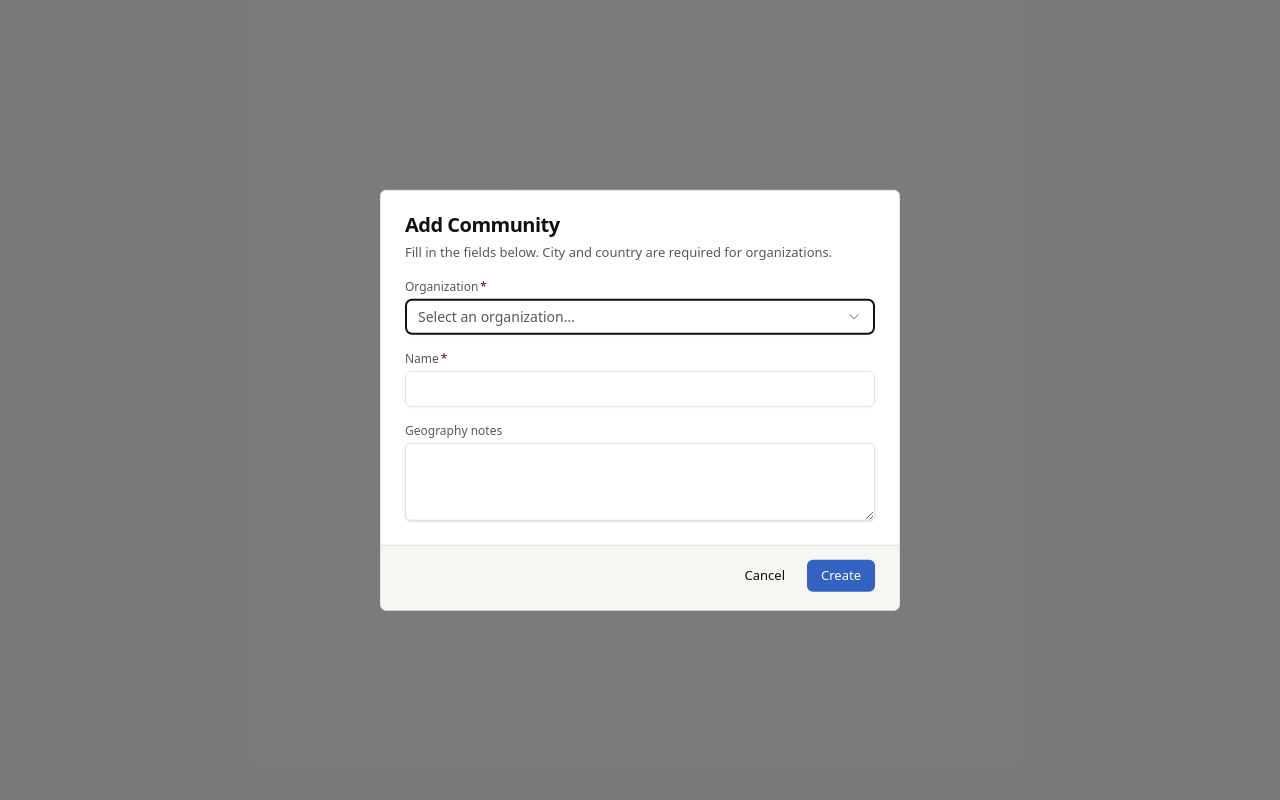
it: EntityForm › community: picker mode (availableOrgs) › shows a validation error when submitted without selecting an org
Type "Test Community" into the field labelled "Name*".
click(640, 388); type("Test Community")  # box [405,370,875,406]
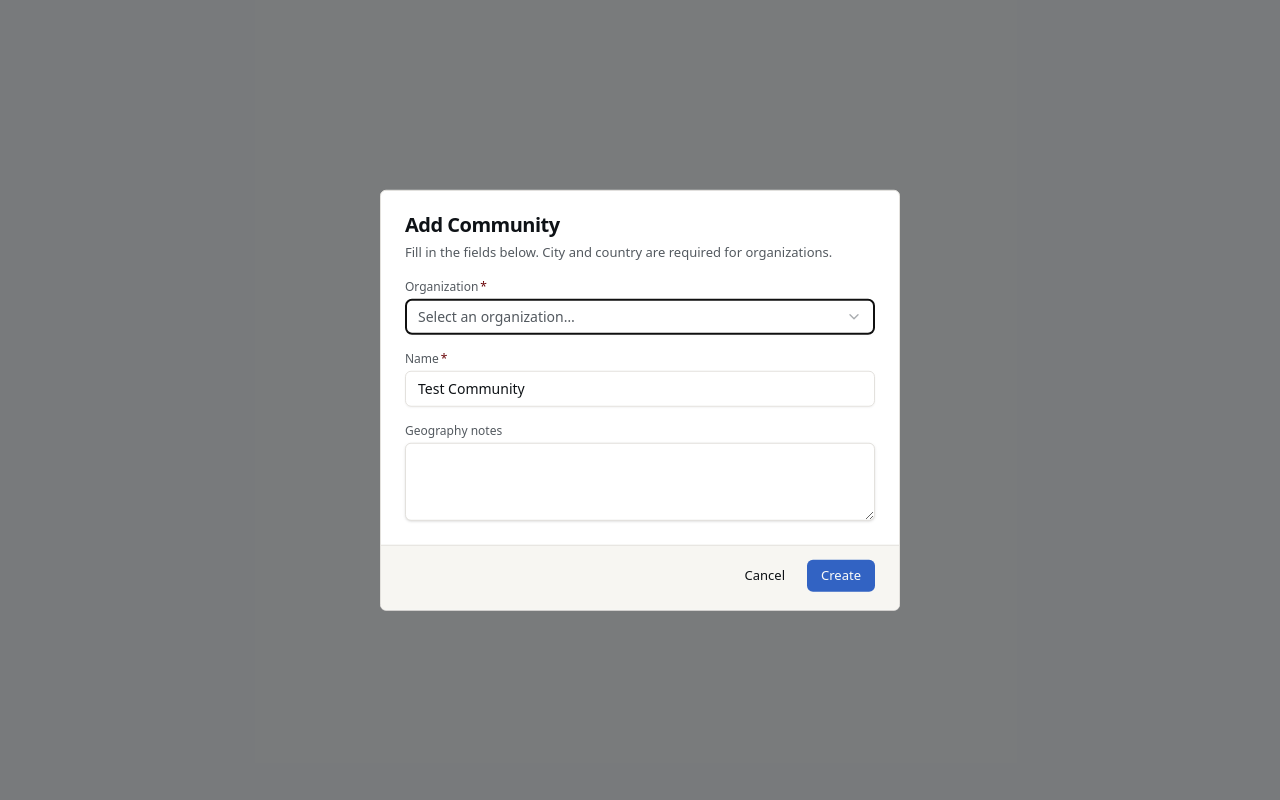
Click the button "Create".
click(841, 575)  # box [807,559,875,591]
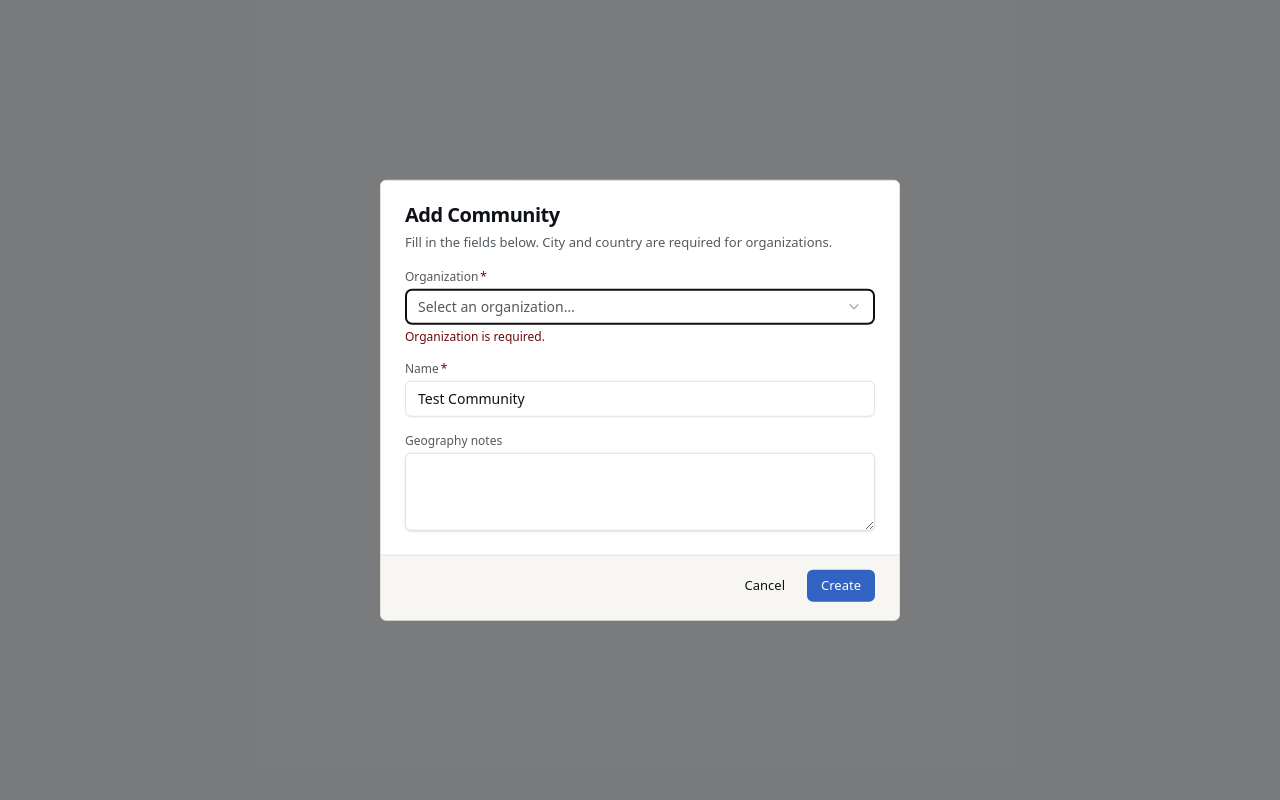
Expected: the message "Organization is required." is shown, [405,327,545,344]
